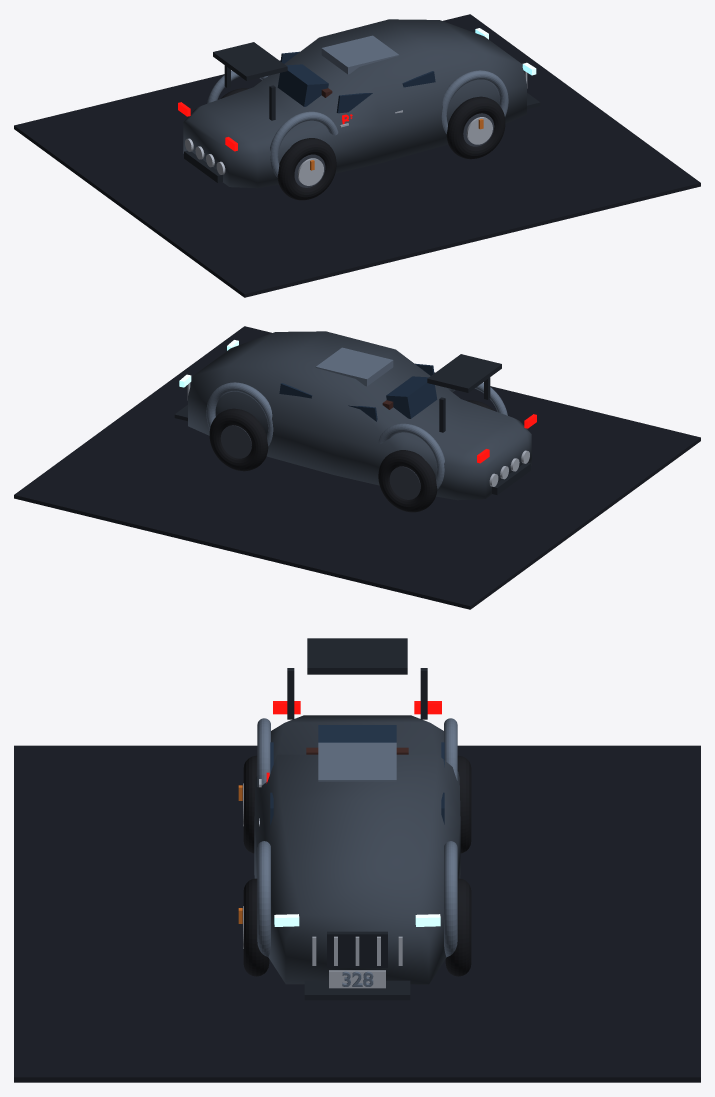
File: BHC_VEH_328_NEON_DIESEL_HERO.glb
3 views of the same model, one above another, from view 1: azimuth 30°, elevation 25°; view 2: azimuth 150°, elevation 25°; view 3: azimuth 270°, elevation 25° (orthographic). The views are drawn at different scales.
Parts seen in each view (by area): view 1: BHC_HeroStudioFloor, SK_BHC_328_HeroBodyShell, SM_BHC_328_HeroTire_FL, SM_BHC_328_HeroTire_RL, SM_BHC_328_HeroWingBlade, SM_BHC_328_HeroRoof, SM_BHC_328_HeroRearGlass, SM_BHC_328_HeroFenderFlare, SM_BHC_328_HeroFenderFlareR, SM_BHC_328_HeroBrakeDisc_RL, SM_BHC_328_HeroBrakeDisc_FL, SM_BHC_328_HeroRearDiffuser; view 2: BHC_HeroStudioFloor, SK_BHC_328_HeroBodyShell, SM_BHC_328_HeroTire_FR, SM_BHC_328_HeroTire_RR, SM_BHC_328_HeroWingBlade, SM_BHC_328_HeroRoof, SM_BHC_328_HeroRearGlass, SM_BHC_328_HeroFenderFlare.001, SM_BHC_328_HeroFenderFlareR.001, SM_BHC_328_HeroRim_RR, SM_BHC_328_HeroRim_FR, SM_BHC_328_HeroRearDiffuser; view 3: BHC_HeroStudioFloor, SK_BHC_328_HeroBodyShell, SM_BHC_328_HeroWingBlade, SM_BHC_328_HeroRoof, SM_BHC_328_HeroGrille, SM_BHC_328_HeroFrontSplitter, SM_BHC_328_HeroTire_FL, SM_BHC_328_HeroTire_FR, SM_BHC_328_HeroFenderFlare, SM_BHC_328_HeroFenderFlare.001, SM_BHC_328_HeroRearGlass, SM_BHC_328_HeroTire_RL (+4 smaller).
Boxes of the visible parts, <box> form: BHC_HeroStudioFloor: <box>14,14,700,297</box>; SK_BHC_328_HeroBodyShell: <box>183,19,526,188</box>; SM_BHC_328_HeroTire_FL: <box>446,96,505,159</box>; SM_BHC_328_HeroTire_RL: <box>277,138,336,200</box>; SM_BHC_328_HeroWingBlade: <box>213,42,287,80</box>; SM_BHC_328_HeroRoof: <box>321,35,399,74</box>; SM_BHC_328_HeroRearGlass: <box>277,64,328,106</box>; SM_BHC_328_HeroFenderFlare: <box>441,70,508,134</box>; SM_BHC_328_HeroFenderFlareR: <box>270,111,338,177</box>; SM_BHC_328_HeroBrakeDisc_RL: <box>297,158,323,185</box>; SM_BHC_328_HeroBrakeDisc_FL: <box>466,117,492,144</box>; SM_BHC_328_HeroRearDiffuser: <box>184,150,222,182</box>; BHC_HeroStudioFloor: <box>14,326,700,609</box>; SK_BHC_328_HeroBodyShell: <box>188,331,531,500</box>; SM_BHC_328_HeroTire_FR: <box>209,408,268,471</box>; SM_BHC_328_HeroTire_RR: <box>378,450,437,512</box>; SM_BHC_328_HeroWingBlade: <box>427,354,501,392</box>; SM_BHC_328_HeroRoof: <box>315,347,393,386</box>; SM_BHC_328_HeroRearGlass: <box>386,376,437,418</box>; SM_BHC_328_HeroFenderFlare.001: <box>206,382,273,446</box>; SM_BHC_328_HeroFenderFlareR.001: <box>378,423,444,489</box>; SM_BHC_328_HeroRim_RR: <box>389,466,420,499</box>; SM_BHC_328_HeroRim_FR: <box>220,425,251,458</box>; SM_BHC_328_HeroRearDiffuser: <box>492,462,530,494</box>; BHC_HeroStudioFloor: <box>14,745,700,1082</box>; SK_BHC_328_HeroBodyShell: <box>254,715,460,984</box>; SM_BHC_328_HeroWingBlade: <box>307,638,407,674</box>; SM_BHC_328_HeroRoof: <box>318,742,396,781</box>; SM_BHC_328_HeroGrille: <box>327,931,387,967</box>; SM_BHC_328_HeroFrontSplitter: <box>304,980,410,1000</box>; SM_BHC_328_HeroTire_FL: <box>243,878,269,976</box>; SM_BHC_328_HeroTire_FR: <box>445,878,471,976</box>; SM_BHC_328_HeroFenderFlare: <box>257,841,270,957</box>; SM_BHC_328_HeroFenderFlare.001: <box>444,841,457,957</box>; SM_BHC_328_HeroRearGlass: <box>318,725,396,742</box>; SM_BHC_328_HeroTire_RL: <box>243,755,257,853</box>.
Size of the model in its own units: 8 by 2.09 by 7.
